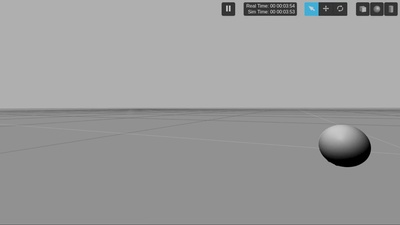mira_robot: (318, 125, 371, 167)
